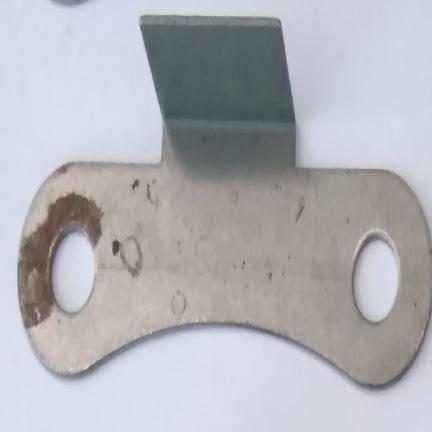besi_tidak_karat: (18, 15, 431, 387)
